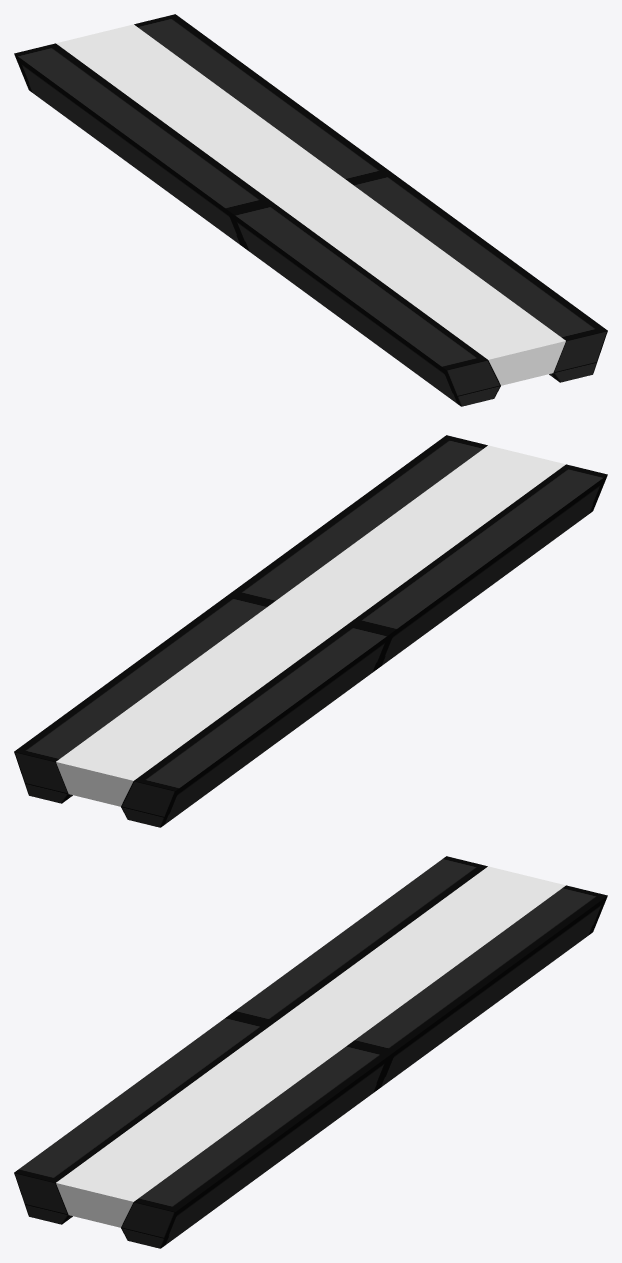
Rendered from StructureLight01_Art.fbx.
3 views of the same model, one above another, from view 1: azimuth 30°, elevation 25°; view 2: azimuth 150°, elevation 25°; view 3: azimuth 330°, elevation 25° (orthographic).
Visible parts, largest first — view 1: StructureLight01_Art; view 2: StructureLight01_Art; view 3: StructureLight01_Art.
Part boxes in pixels (box(x1,y1,x2,y2)): StructureLight01_Art: box(14, 14, 607, 406); StructureLight01_Art: box(14, 435, 607, 827); StructureLight01_Art: box(14, 856, 607, 1248).
Size of the model in its own units: 3.36 by 0.8026 by 15.59.
